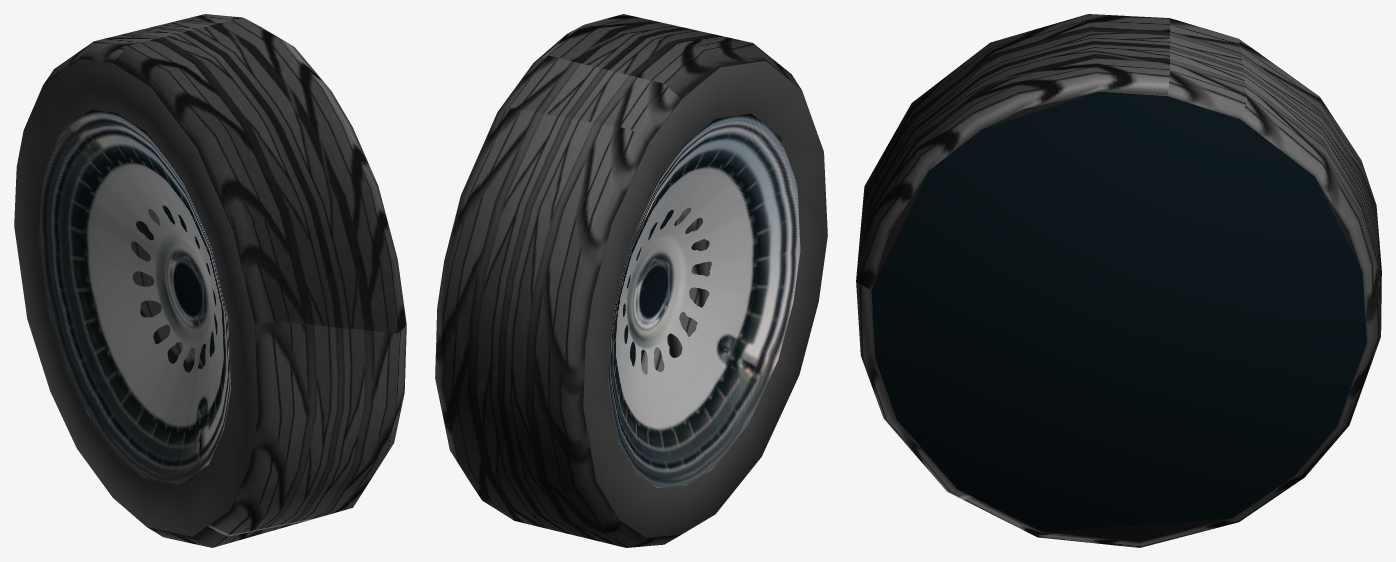
Rendered from wheel2.fbx.
The picture shows the model from 3 angles, left to right: view 1: azimuth 30°, elevation 25°; view 2: azimuth 150°, elevation 25°; view 3: azimuth 270°, elevation 25°; orthographic projection.
Visible parts, largest first — view 1: Cylinder; view 2: Cylinder; view 3: Cylinder.
Boxes of the visible parts, x1,y1,x2,y2 form: Cylinder: (14, 14, 406, 547); Cylinder: (435, 14, 827, 547); Cylinder: (856, 14, 1381, 547).
Bounding box in the file's own units: 70 × 212 × 212.
Materials: 1 (1 with a texture image).
